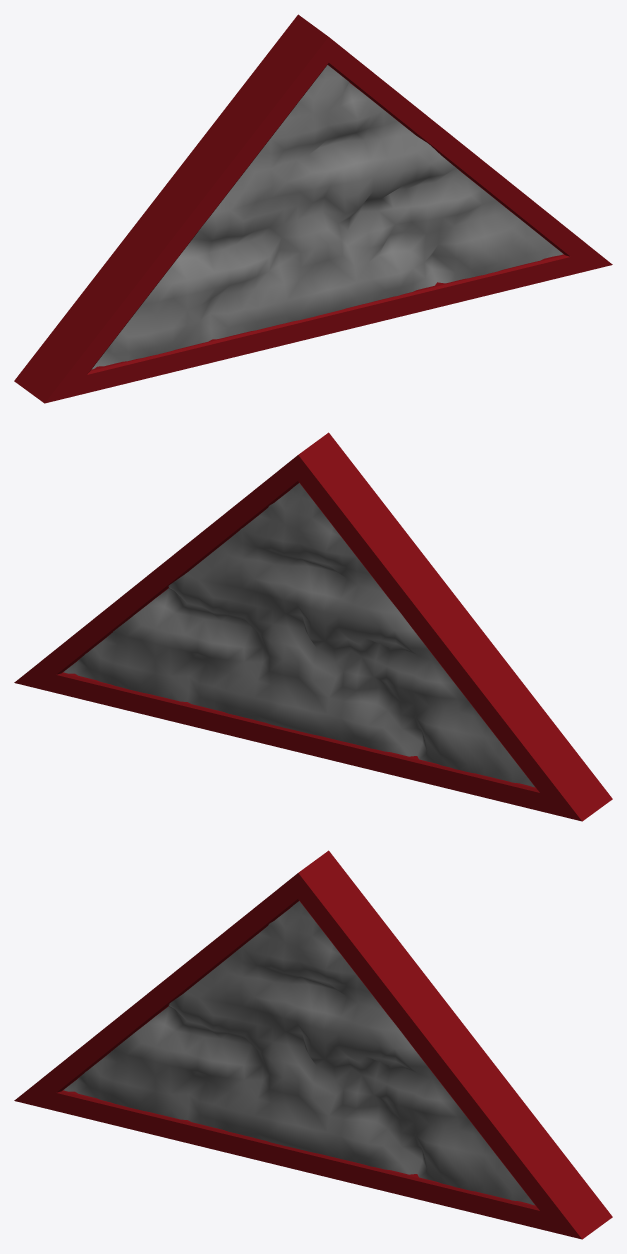
Rendered from SM_MH_01_Stone_Wall_Roof_Top_02.fbx.
3 renders of one model, top to bottom at view 1: azimuth 30°, elevation 25°; view 2: azimuth 150°, elevation 25°; view 3: azimuth 330°, elevation 25°, orthographic.
Parts seen in each view (by area): view 1: SM_MH_01_Stone_Wall_Roof_Top_02_LOD0; view 2: SM_MH_01_Stone_Wall_Roof_Top_02_LOD0; view 3: SM_MH_01_Stone_Wall_Roof_Top_02_LOD0.
Part boxes in pixels (x1,y1,x2,y2): SM_MH_01_Stone_Wall_Roof_Top_02_LOD0: (14,14,612,403); SM_MH_01_Stone_Wall_Roof_Top_02_LOD0: (14,432,612,821); SM_MH_01_Stone_Wall_Roof_Top_02_LOD0: (14,850,612,1239).
Size of what is drawn, in the model's own units: 300 by 150 by 35.31.
